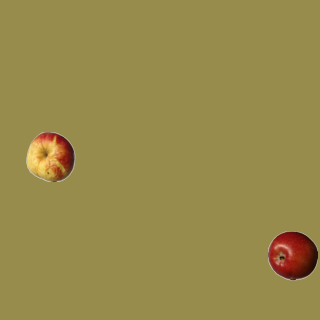Apple Braeburn: (267, 230, 317, 280)
Apple Red Yellow 1: (25, 131, 75, 181)
